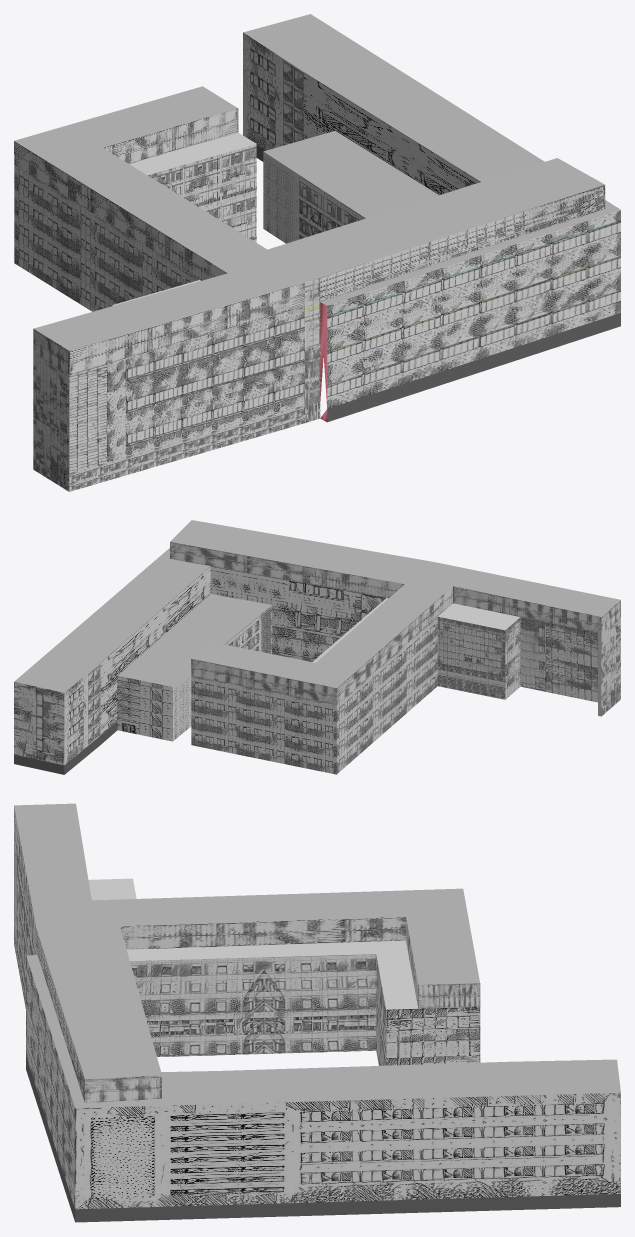
File: Chemie.gltf
3 views of the same model, one above another, from view 1: azimuth 30°, elevation 25°; view 2: azimuth 150°, elevation 25°; view 3: azimuth 270°, elevation 25° (orthographic). The views are drawn at different scales.
Visible parts, largest first — view 1: Chemie1.1; view 2: Chemie1.1; view 3: Chemie1.1.
Part boxes in pixels (x1,y1,x2,y2): Chemie1.1: (14,14,620,491); Chemie1.1: (14,520,620,774); Chemie1.1: (14,803,620,1222).
Size of the model in its own units: 119 by 27.29 by 108.
Materials: 26 (21 with a texture image).
